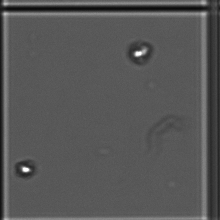Living Cell: (127, 36, 158, 66), (13, 155, 39, 181)
